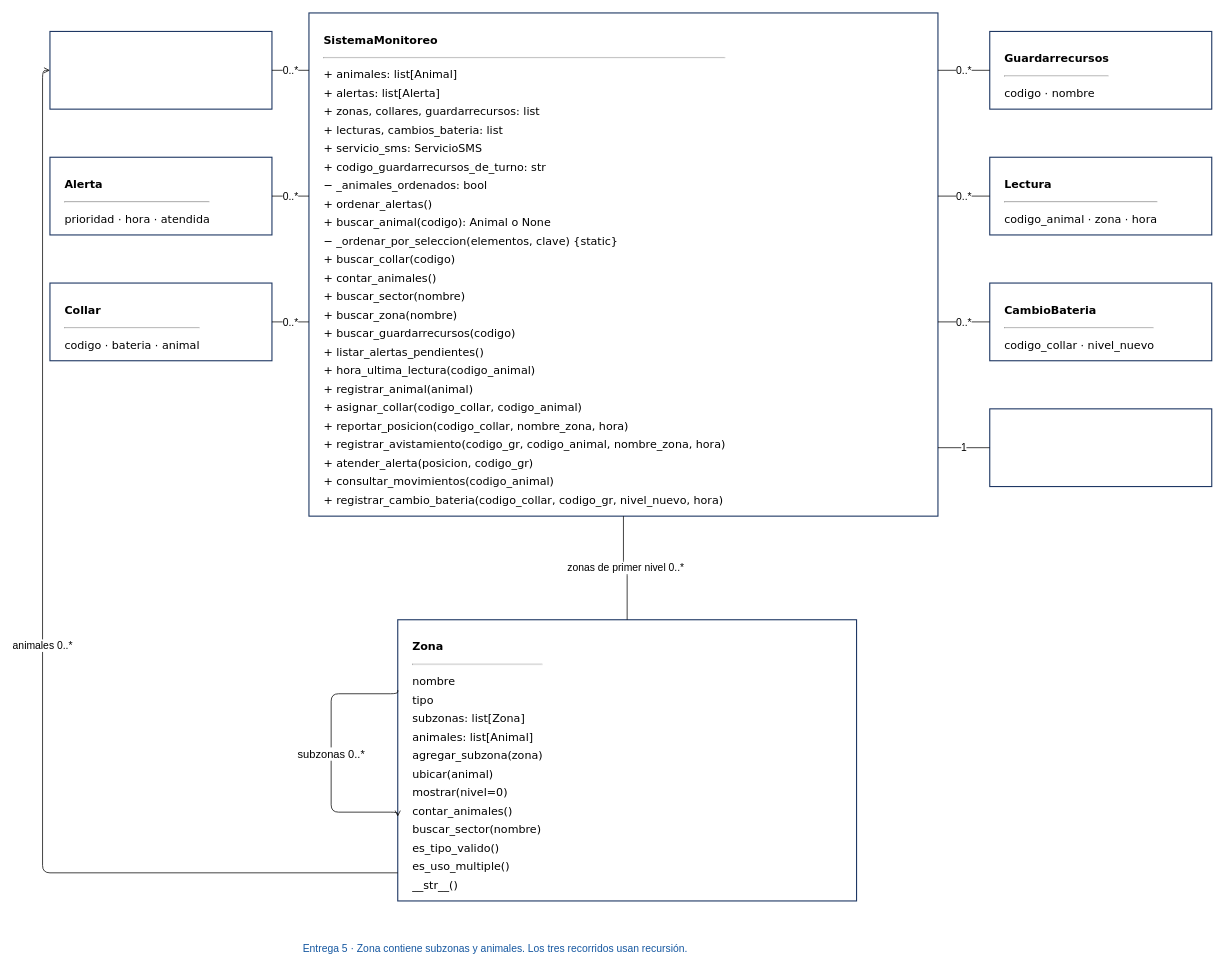
This 1225x972 diagram has some shape labels left out. Each missing label, with the box of its shape:
Animal codigo · nombre · collar: (49, 31, 272, 109)
ServicioSMS mensajes_enviados: (989, 408, 1212, 487)
